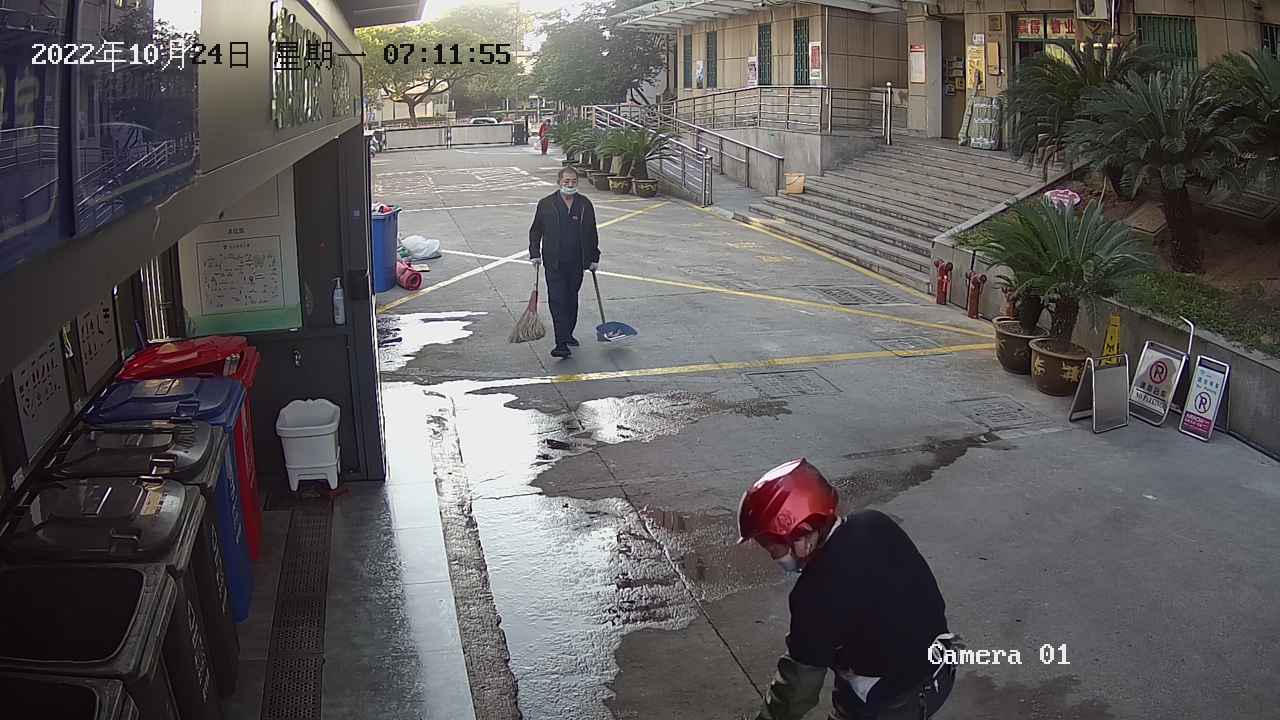person: (728, 452, 965, 720), (525, 162, 603, 363)
